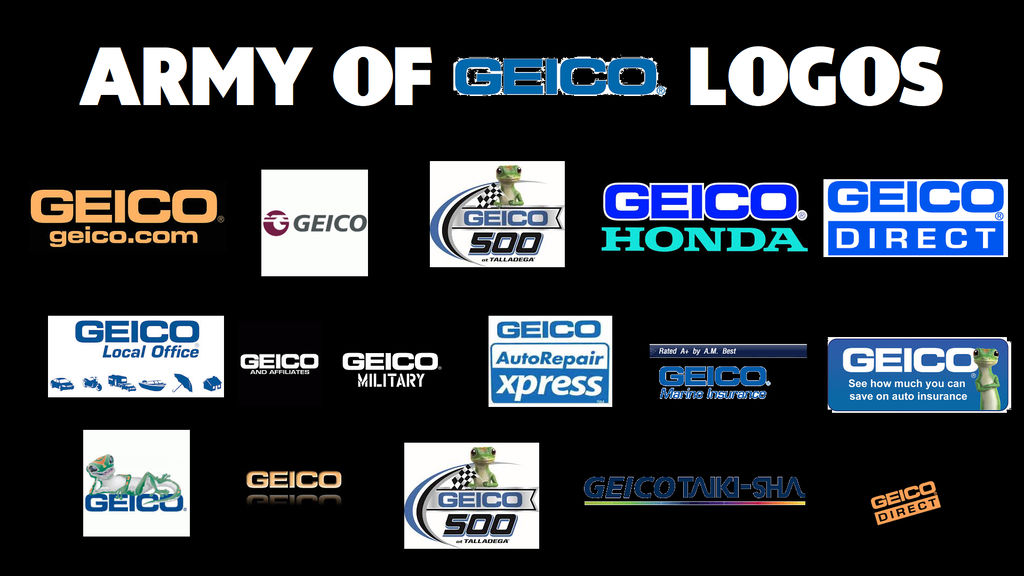Geico: (452, 53, 668, 101), (596, 176, 811, 224), (574, 469, 816, 511), (645, 341, 803, 405), (837, 343, 988, 406), (25, 184, 223, 227), (828, 178, 1009, 214), (866, 475, 948, 527), (72, 317, 209, 345), (489, 318, 610, 345), (431, 486, 532, 517), (241, 470, 342, 498), (341, 351, 449, 375), (85, 490, 186, 511), (236, 349, 323, 372), (291, 211, 367, 235)
